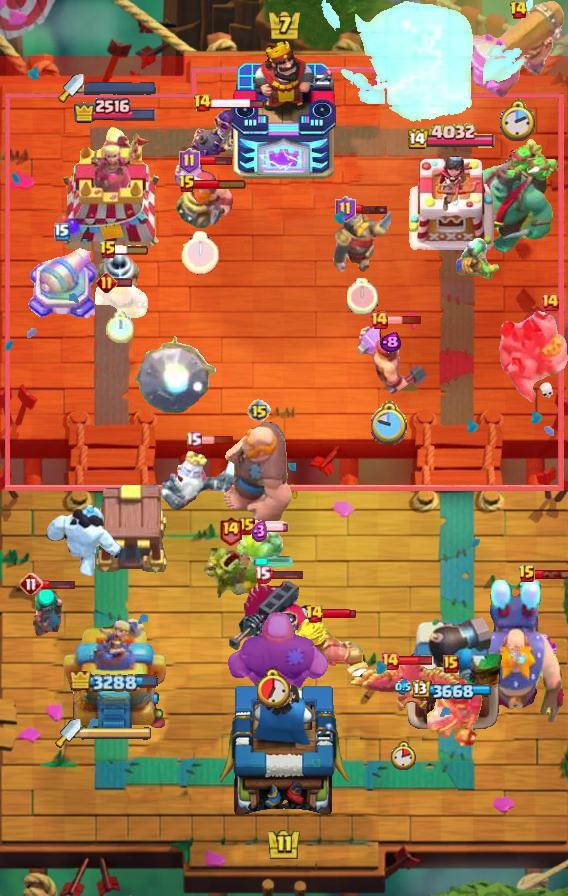archer: (95, 279, 149, 323)
balloon: (225, 610, 331, 700), (222, 418, 296, 526)
bar: (55, 126, 173, 256), (61, 615, 166, 731)
bomb: (90, 481, 170, 575)
cannoneer-tower: (496, 311, 568, 405)
electro-spirit: (380, 331, 401, 352), (251, 520, 268, 544), (395, 679, 411, 695)
elixir: (181, 231, 219, 275), (371, 401, 409, 445), (500, 99, 537, 143), (257, 668, 291, 707), (347, 278, 377, 314), (106, 311, 134, 343), (390, 742, 416, 770)
emote: (210, 97, 265, 110), (193, 178, 247, 190), (252, 520, 290, 532), (353, 203, 389, 215), (114, 244, 150, 256), (268, 568, 304, 580), (321, 608, 357, 620), (41, 578, 76, 590), (197, 154, 233, 165), (398, 654, 433, 665), (536, 568, 568, 580), (387, 315, 422, 325), (199, 435, 234, 445), (114, 276, 134, 287)
firecracker: (333, 210, 391, 273)
flying-machine: (201, 548, 259, 602)
freeze: (418, 675, 484, 751)
furnace: (458, 0, 568, 106)
giant-snowball: (452, 237, 502, 281)
goblin-ball: (189, 106, 245, 162)
goblin-drill: (94, 249, 146, 305), (176, 180, 224, 228)
goblin-hut: (292, 614, 368, 676)
ice-spirit: (254, 556, 294, 568)
inferno-tower: (226, 578, 322, 664)
king-tower: (219, 678, 349, 826), (230, 41, 338, 181)
king-tower-bar: (84, 81, 156, 95), (81, 726, 153, 740)
lava-hound: (455, 137, 561, 255)
little-prince: (464, 578, 568, 726)
mega-knight: (321, 0, 538, 126)
mighty-miner: (353, 317, 427, 399), (172, 159, 236, 229)
mortar-evolution: (158, 442, 246, 522)
mother-witch: (347, 657, 459, 727)
queen-tower: (406, 152, 500, 256)
rage: (44, 498, 124, 580)
royal-recruit: (24, 244, 100, 326)
selected: (408, 124, 498, 153), (71, 96, 156, 124), (70, 671, 158, 694), (412, 679, 494, 700)
text: (218, 515, 243, 546), (247, 399, 271, 423), (19, 572, 43, 596), (179, 148, 201, 174), (335, 196, 357, 222), (96, 271, 117, 293), (540, 292, 560, 312), (369, 310, 389, 330), (304, 604, 324, 624), (380, 651, 400, 671), (509, 0, 528, 20), (193, 93, 212, 113), (178, 174, 196, 194), (99, 240, 117, 260), (518, 564, 536, 584), (185, 430, 202, 449), (254, 565, 271, 583), (54, 223, 70, 241), (239, 517, 255, 535), (443, 655, 459, 673)
tower-bar: (402, 615, 504, 731)
valkyrie-evolution: (233, 526, 285, 578)
witch: (30, 587, 66, 639)
x-bow: (134, 335, 217, 415)
